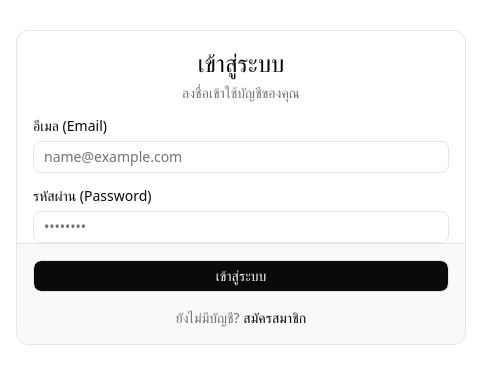
Test: LoginPage › validates password minimum length
The width and height of the screenshot is (483, 376).
In the field labelled "อีเมล (Email)": {"x": 241, "y": 156} left=33, top=140, right=449, bottom=172, type "test@example.com"
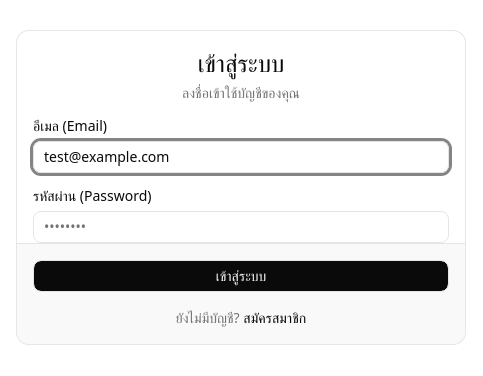
In the password field labelled "รหัสผ่าน (Password)": {"x": 241, "y": 226} left=33, top=210, right=449, bottom=242, type "short"
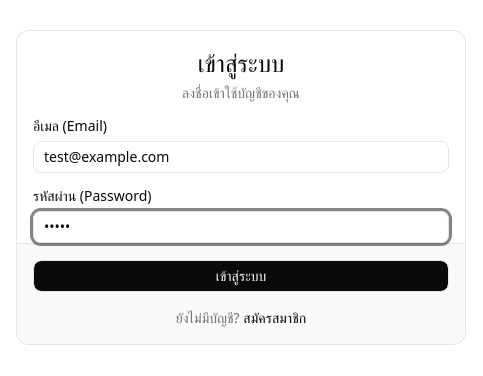
Click the button "เข้าสู่ระบบ": {"x": 241, "y": 276} left=33, top=260, right=449, bottom=292
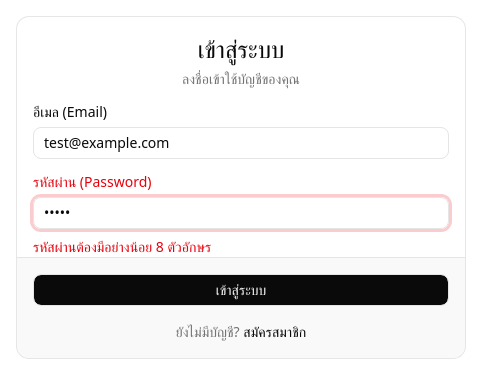
Now the text "รหัสผ่านต้องมีอย่างน้อย 8 ตัวอักษร" is shown, box left=33, top=236, right=211, bottom=256
